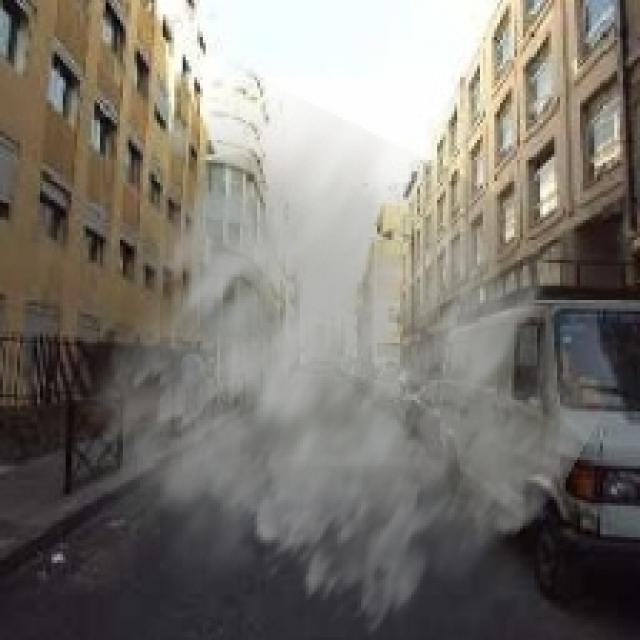Smoke: (62, 72, 628, 638)
